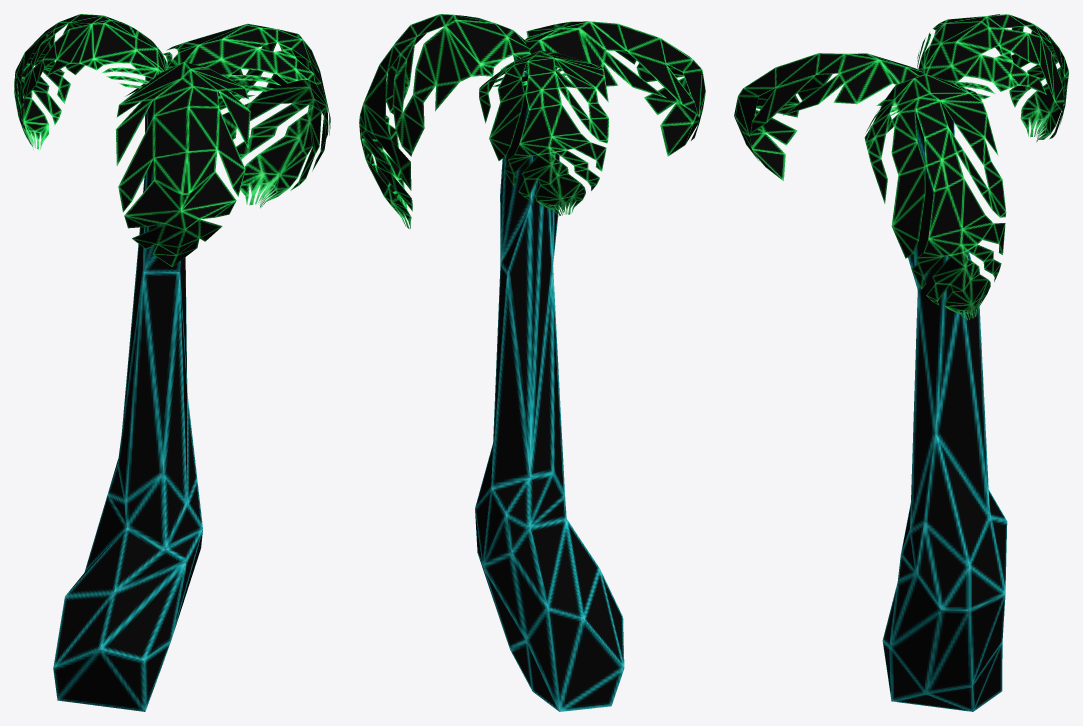
File: palm4.FBX
3 views of the same model, side by side, from view 1: azimuth 30°, elevation 25°; view 2: azimuth 150°, elevation 25°; view 3: azimuth 270°, elevation 25° (orthographic). The views are drawn at different scales.
Parts seen in each view (by area): view 1: palm4; view 2: palm4; view 3: palm4.
Boxes of the visible parts, bbox=[...] form: palm4: bbox=[14, 14, 330, 711]; palm4: bbox=[359, 14, 705, 711]; palm4: bbox=[734, 14, 1068, 711].
Bounding box in the file's own units: 6.28 × 6.42 × 14.42.
